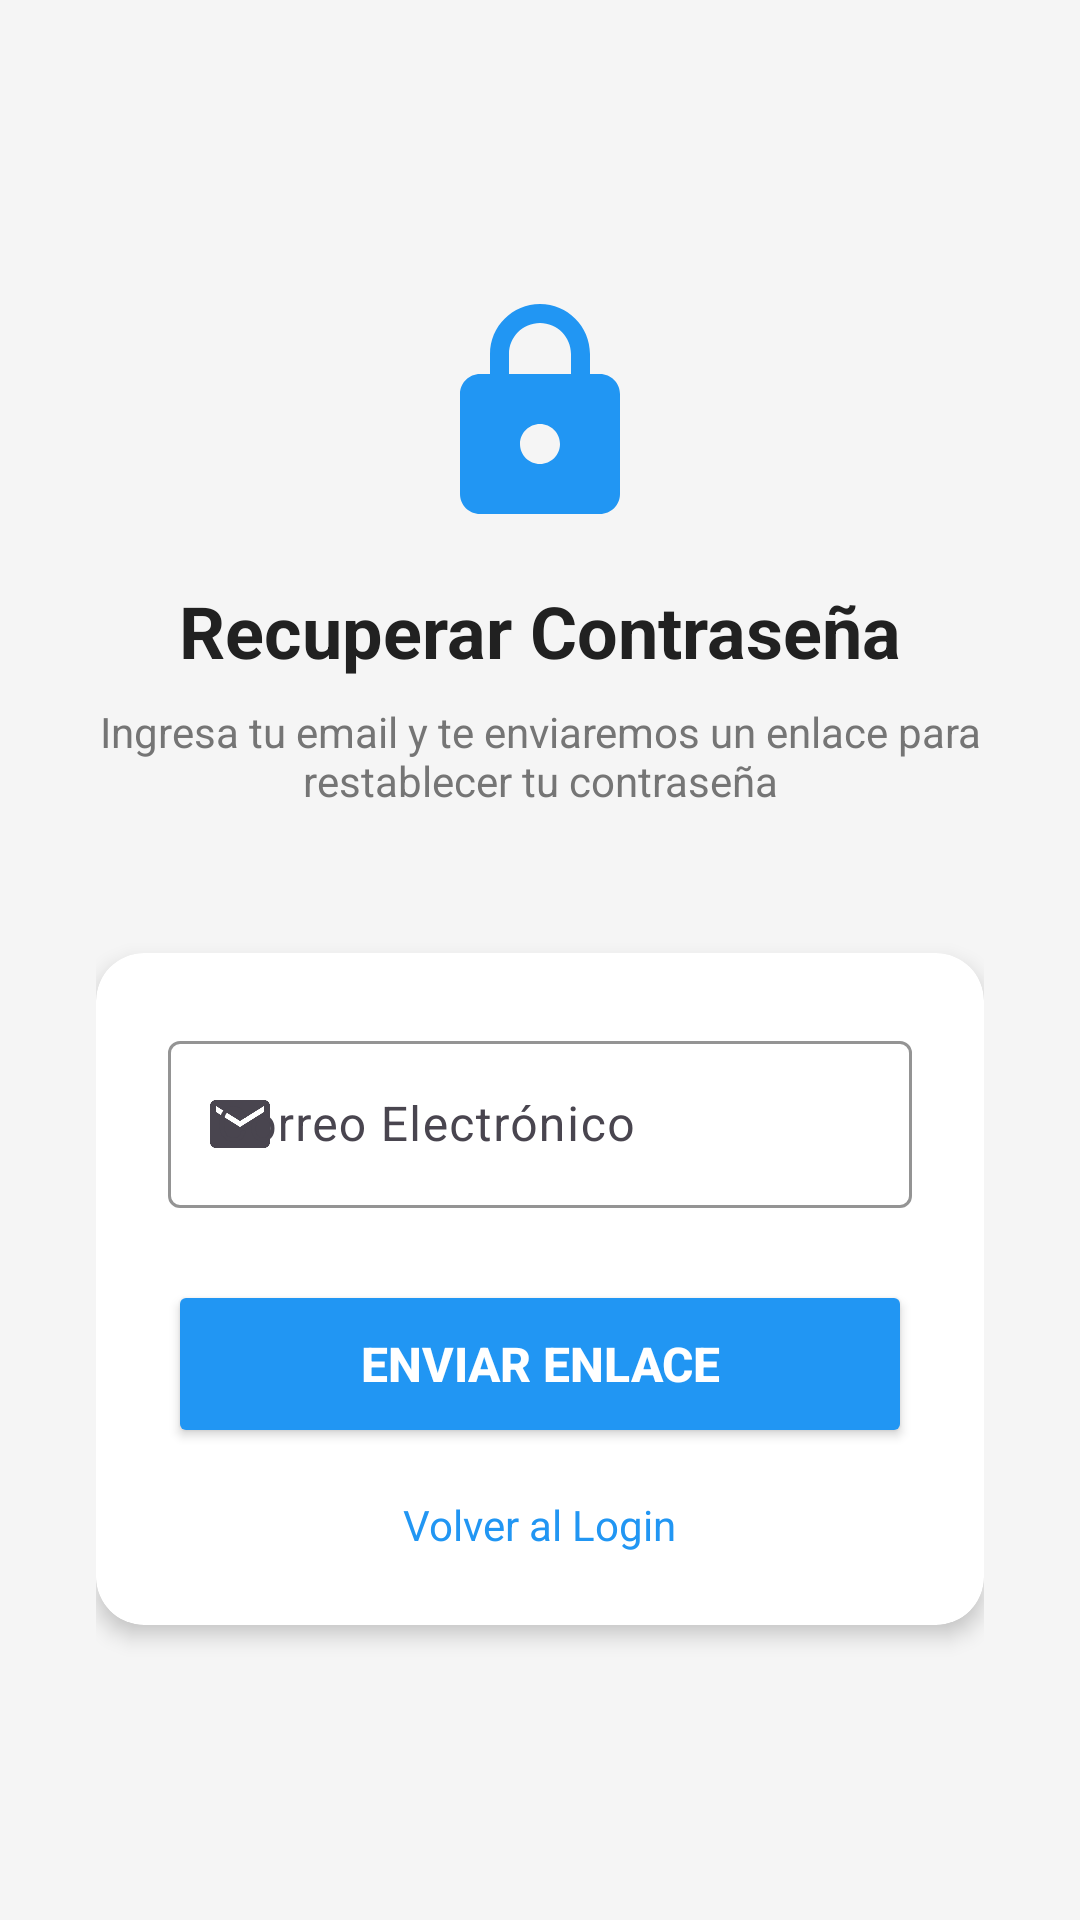

Where icons sit on this 1080 × 1920 app screen, as (x1, y1, x2, y2):
lock: (460, 304, 620, 514)
